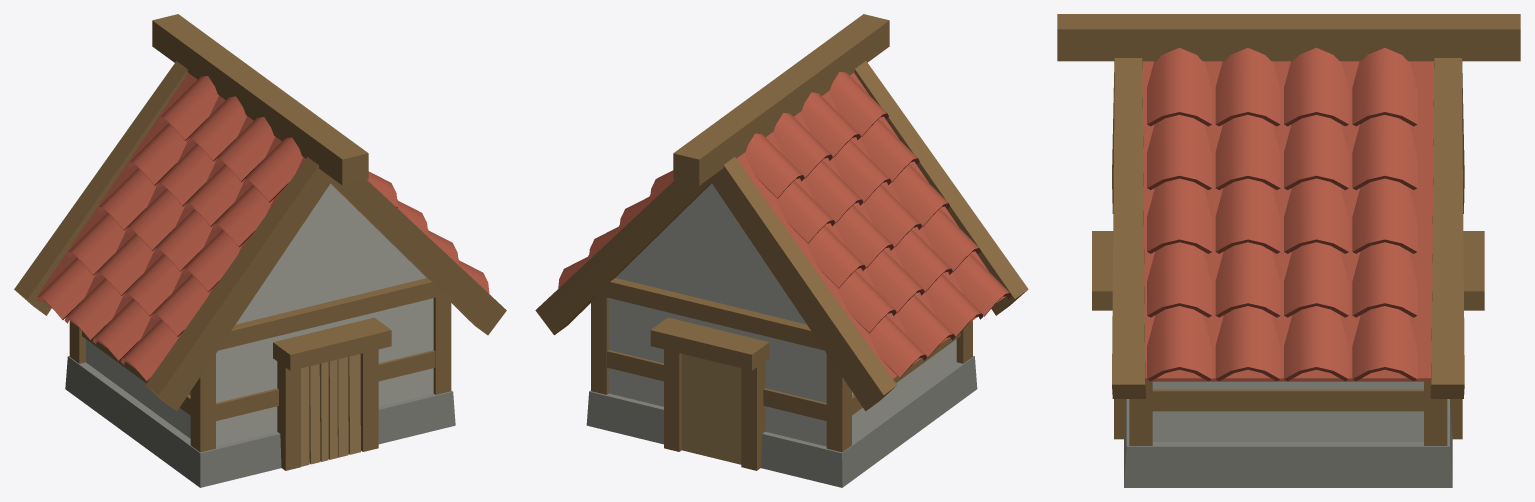
Rendered from house2.glb.
3 renders of one model, left to right at view 1: azimuth 30°, elevation 25°; view 2: azimuth 150°, elevation 25°; view 3: azimuth 270°, elevation 25°, orthographic. The views are drawn at different scales.
Parts seen in each view (by area): view 1: Houses_SecondAge_1_Level1; view 2: Houses_SecondAge_1_Level1; view 3: Houses_SecondAge_1_Level1.
Boxes of the visible parts, x1,y1,x2,y2 form: Houses_SecondAge_1_Level1: (14,14,506,487); Houses_SecondAge_1_Level1: (535,14,1028,487); Houses_SecondAge_1_Level1: (1057,14,1520,487).
Bounding box in the file's own units: 0.89 × 0.7656 × 0.8226.
